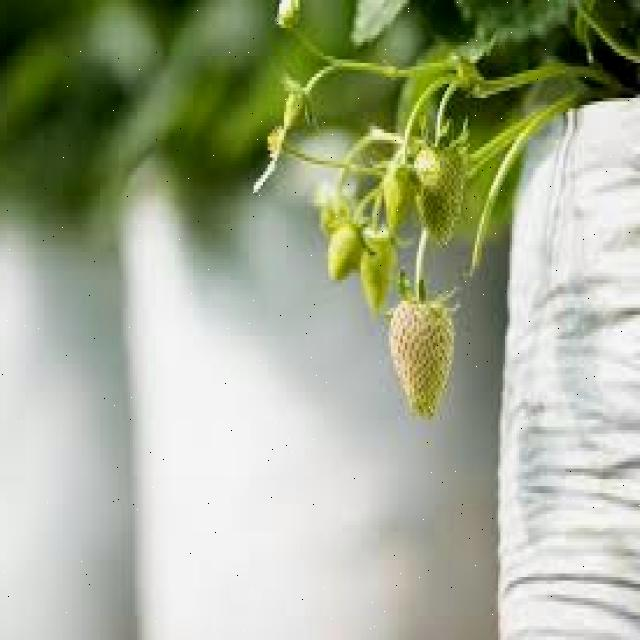unripe: (389, 299, 454, 417), (410, 143, 464, 247), (360, 236, 396, 312), (326, 228, 366, 282)
